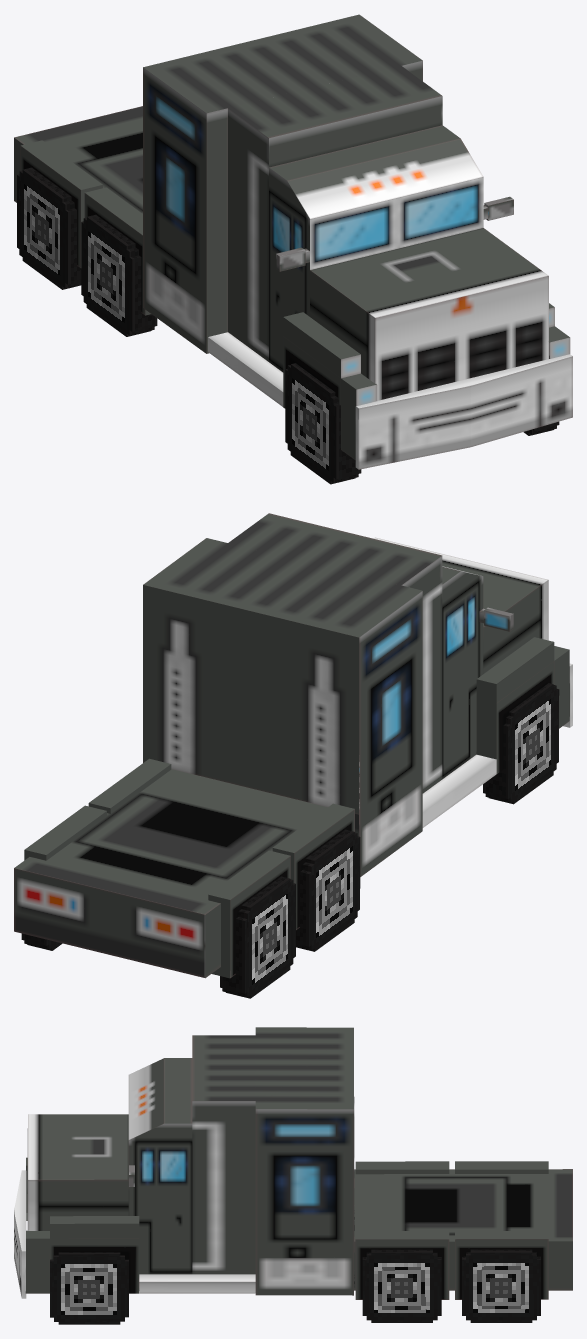
Rendered from BGN_SEMI.fbx.
3 renders of one model, top to bottom at view 1: azimuth 30°, elevation 25°; view 2: azimuth 150°, elevation 25°; view 3: azimuth 270°, elevation 25°, orthographic. The views are drawn at different scales.
Visible parts, largest first — view 1: BGN_SEMI, TIRE__9_, TIRE__10_, TIRE__12_; view 2: BGN_SEMI, TIRE__10_, TIRE__9_, TIRE__12_; view 3: BGN_SEMI, TIRE__7_, TIRE__8_, TIRE__11_.
Boxes of the visible parts, bbox=[...] form: BGN_SEMI: bbox=[14, 14, 572, 469]; TIRE__9_: bbox=[81, 214, 157, 336]; TIRE__10_: bbox=[17, 167, 81, 289]; TIRE__12_: bbox=[285, 363, 361, 484]; BGN_SEMI: bbox=[14, 513, 572, 978]; TIRE__10_: bbox=[220, 876, 295, 998]; TIRE__9_: bbox=[296, 829, 360, 951]; TIRE__12_: bbox=[483, 683, 559, 804]; BGN_SEMI: bbox=[14, 1027, 572, 1299]; TIRE__7_: bbox=[362, 1249, 441, 1322]; TIRE__8_: bbox=[462, 1249, 540, 1322]; TIRE__11_: bbox=[50, 1252, 128, 1324].
Bounding box in the file's own units: 294 × 332 × 785.
2 materials, 2 textured.
